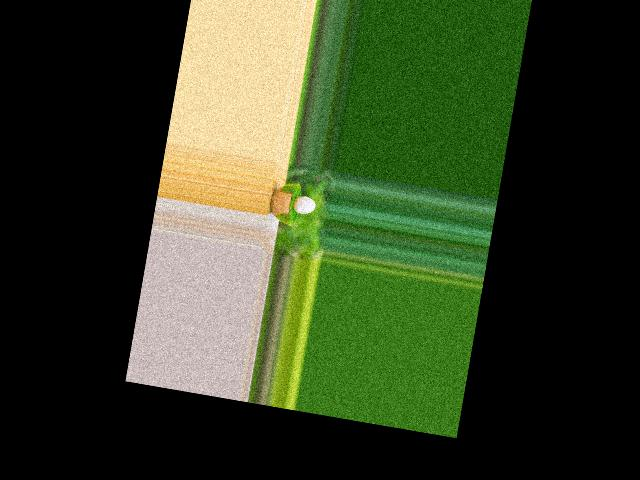egg: (291, 195, 316, 216)
